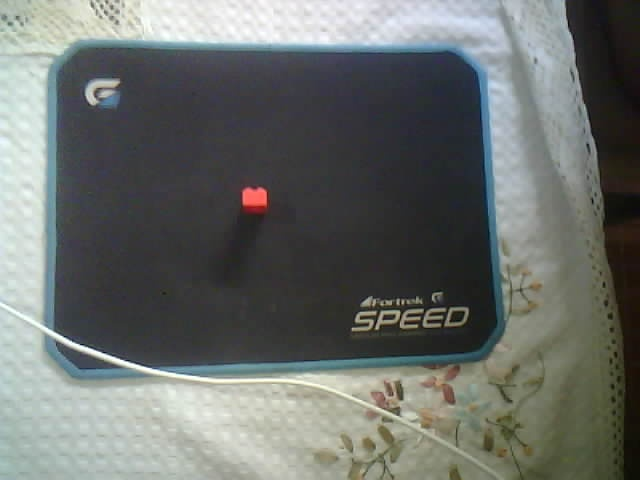lego: (240, 185, 268, 216)
